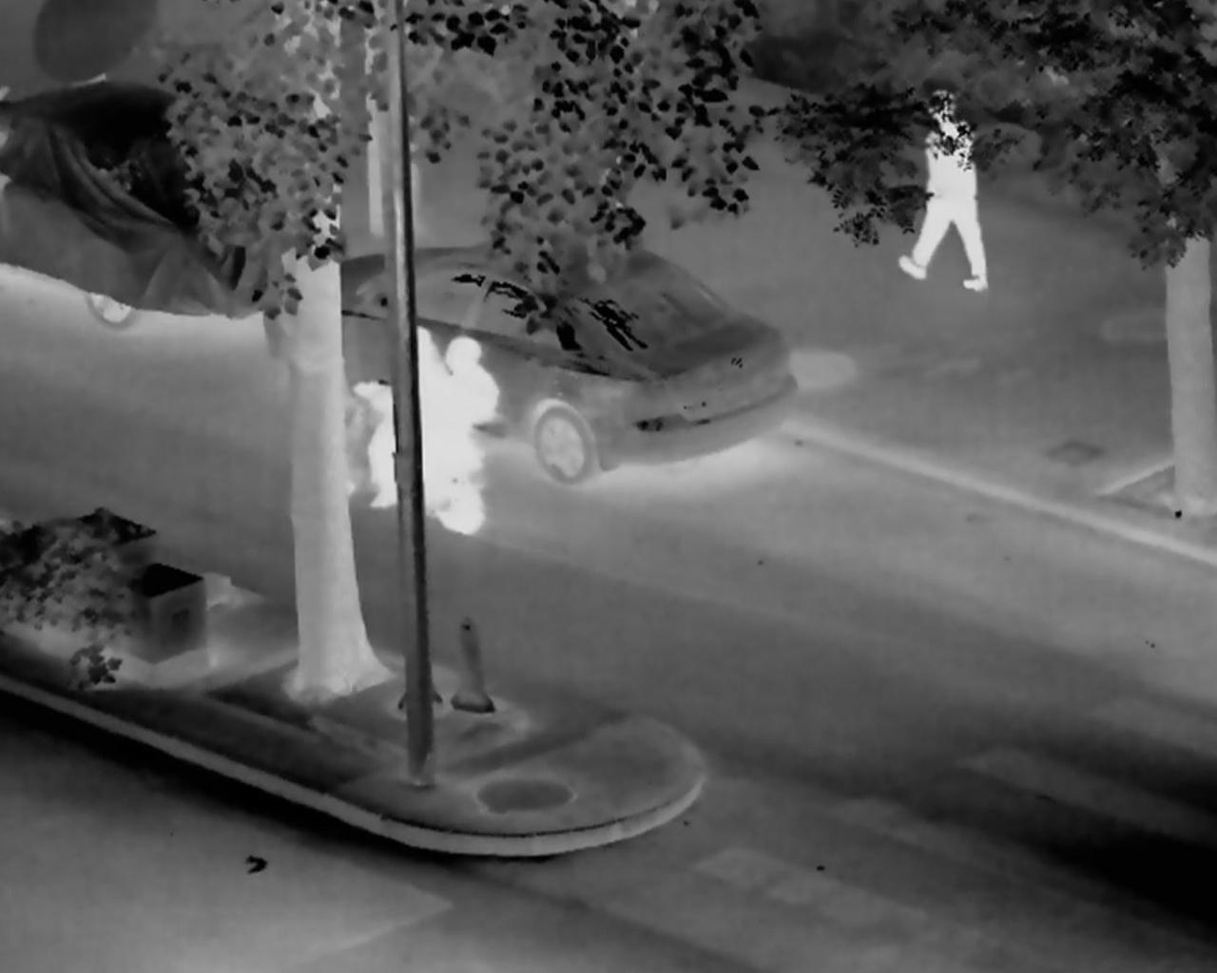person: (902, 88, 989, 289), (357, 320, 443, 510), (425, 337, 490, 508)
